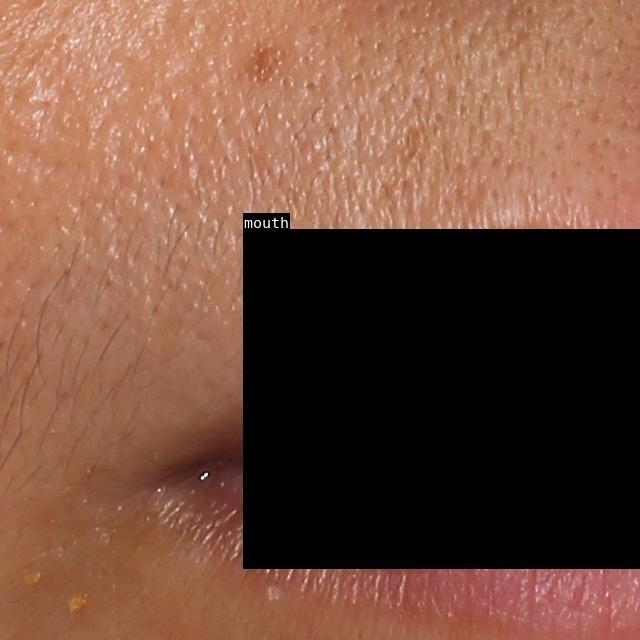other: (60, 591, 98, 616)
